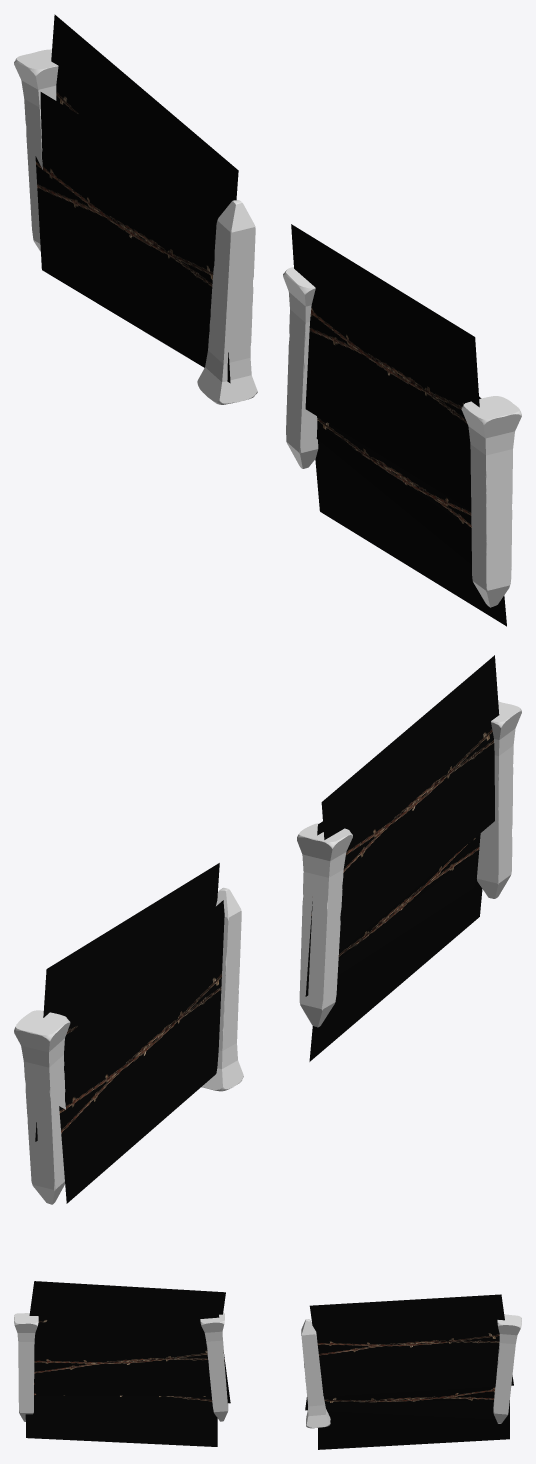
The model's file is fence.fbx.
The picture shows the model from 3 angles, top to bottom: view 1: azimuth 30°, elevation 25°; view 2: azimuth 150°, elevation 25°; view 3: azimuth 270°, elevation 25°; orthographic projection. The views are drawn at different scales.
Parts seen in each view (by area): view 1: wire, wire.001, fence_1, fence_2; view 2: wire, wire.001, fence_1, fence_2; view 3: wire, wire.001, fence_2, fence_1.
Boxes of the visible parts, <box> form: wire: <box>291,224,506,626</box>; wire.001: <box>35,14,238,383</box>; fence_1: <box>283,267,521,607</box>; fence_2: <box>14,49,257,404</box>; wire: <box>305,655,499,1061</box>; wire.001: <box>35,863,224,1203</box>; fence_1: <box>297,701,521,1027</box>; fence_2: <box>14,887,243,1204</box>; wire: <box>25,1281,230,1446</box>; wire.001: <box>305,1294,513,1449</box>; fence_2: <box>301,1314,521,1428</box>; fence_1: <box>14,1313,228,1421</box>.
Size of the model in its own units: 187 by 1007 by 2774.
